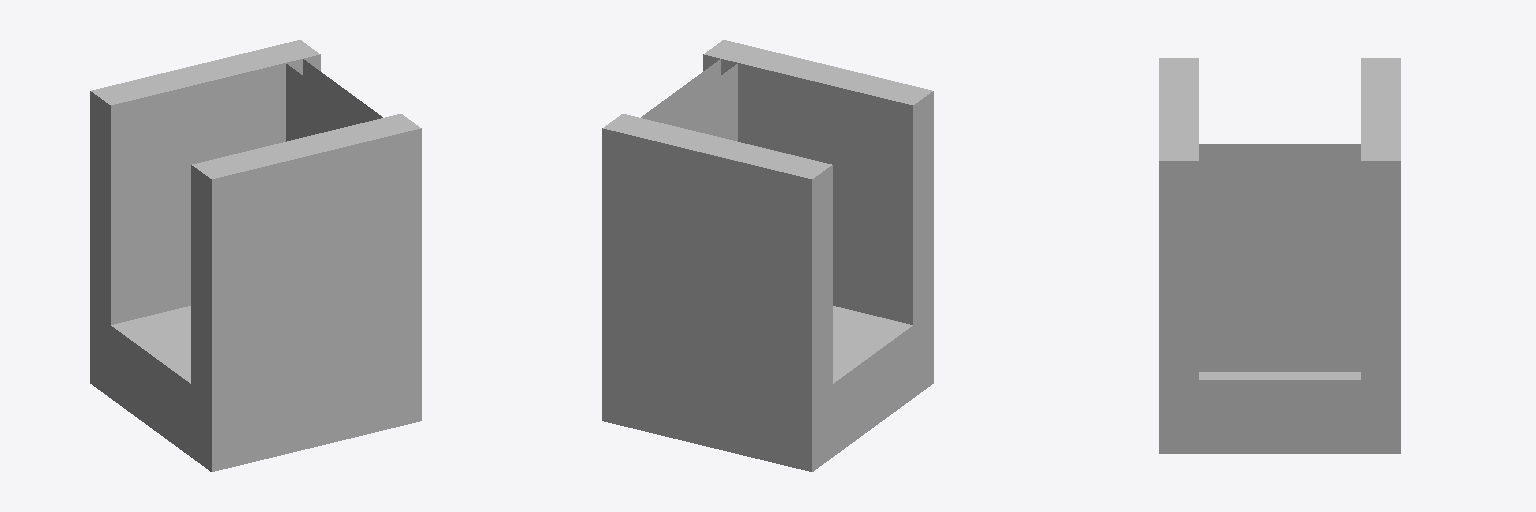
File: foundry_outlet.obj
3 views of the same model, side by side, from view 1: azimuth 30°, elevation 25°; view 2: azimuth 150°, elevation 25°; view 3: azimuth 270°, elevation 25° (orthographic).
Visible parts, largest first — view 1: wall2, wall1, bot, redstone, filter; view 2: wall1, wall2, bot, redstone, filter; view 3: filter, bot, wall1, wall2, redstone.
Part boxes in pixels (bbox=[...]): wall2: bbox=[191, 114, 421, 398]; wall1: bbox=[90, 40, 320, 324]; bot: bbox=[90, 306, 421, 471]; redstone: bbox=[286, 64, 365, 141]; filter: bbox=[303, 59, 382, 121]; wall1: bbox=[602, 114, 832, 398]; wall2: bbox=[703, 40, 933, 324]; bot: bbox=[602, 306, 933, 471]; redstone: bbox=[658, 64, 737, 141]; filter: bbox=[641, 59, 720, 121]; filter: bbox=[1199, 152, 1360, 371]; bot: bbox=[1159, 372, 1400, 453]; wall1: bbox=[1361, 58, 1400, 379]; wall2: bbox=[1159, 58, 1198, 379]; redstone: bbox=[1199, 144, 1360, 151].
Bounding box in the file's own units: 0.375 × 0.5 × 0.375.